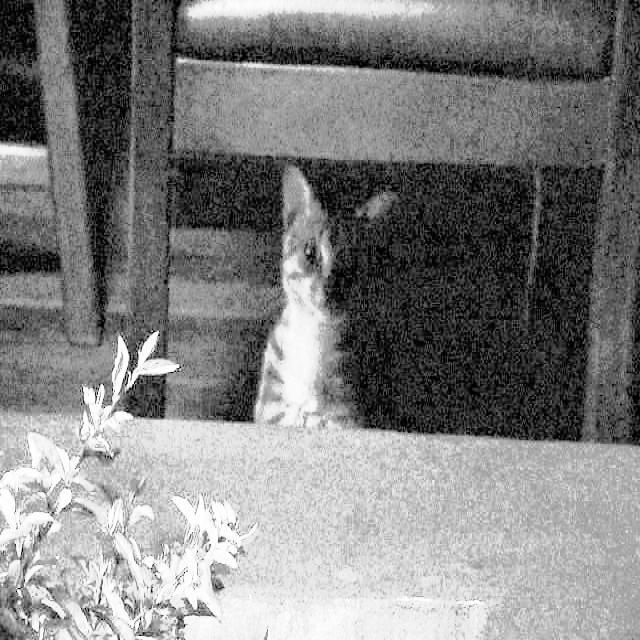Cat: (250, 139, 393, 489)
